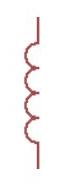inductor: (17, 31, 48, 153)
